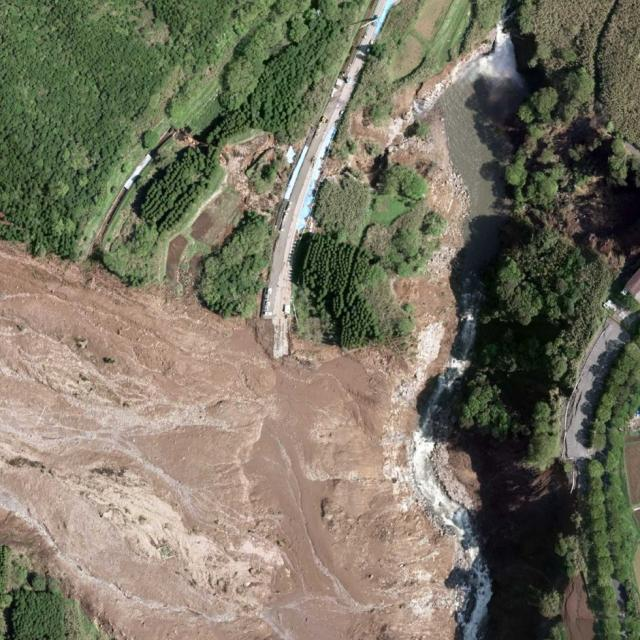landslide: (0, 111, 467, 640)
